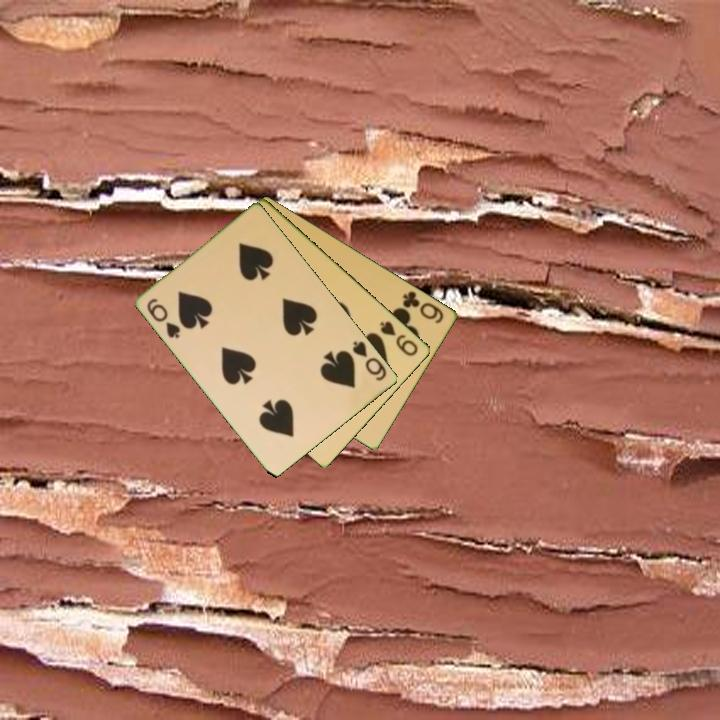6c: (399, 287, 447, 327)
6s: (349, 337, 390, 384), (144, 295, 184, 342)
9s: (376, 317, 421, 359)
